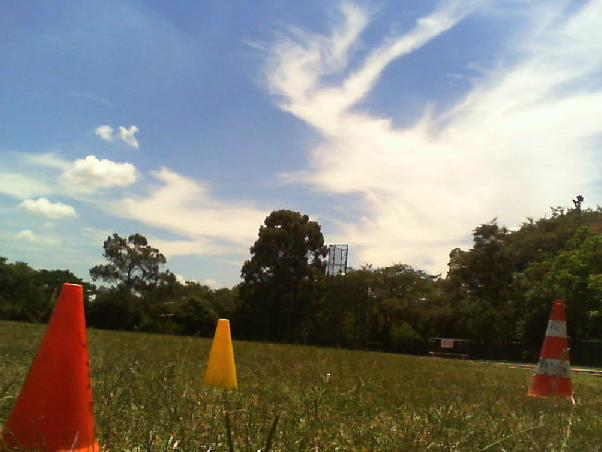0 cone: (0, 282, 102, 452), (525, 299, 574, 403), (205, 319, 239, 389)
